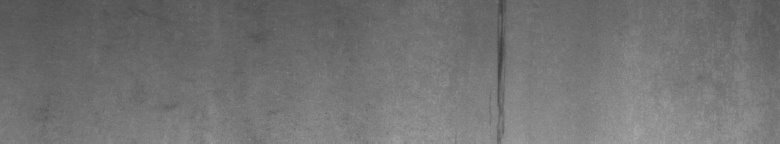hd: (488, 4, 512, 136)
